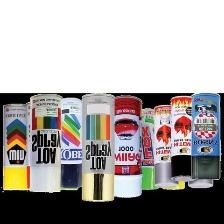aerosol_cans: (77, 91, 117, 207), (26, 92, 65, 194), (109, 94, 144, 201), (169, 94, 206, 185), (129, 106, 165, 194), (188, 92, 223, 182), (150, 101, 185, 190), (56, 95, 88, 190), (0, 101, 33, 193)
